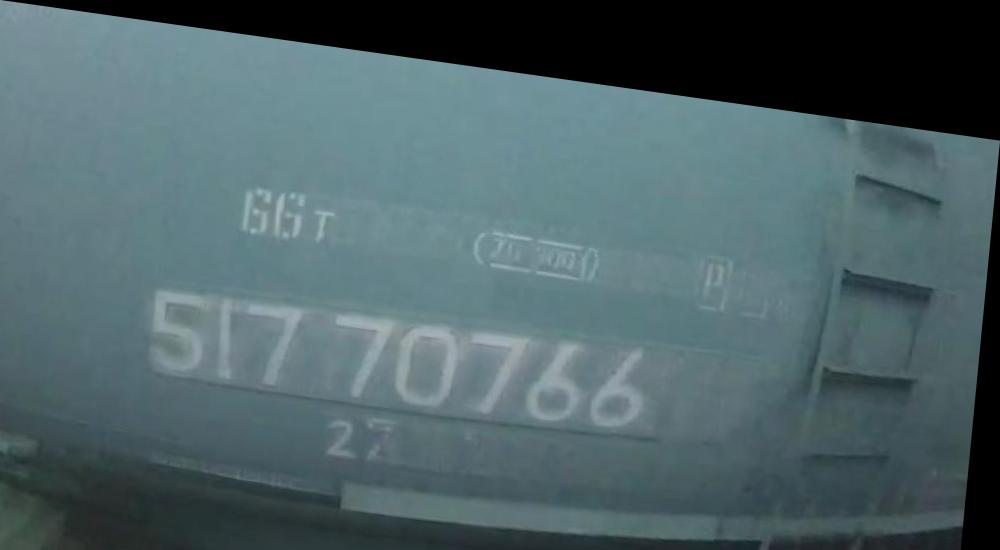Wagon-number: (149, 277, 668, 427)
